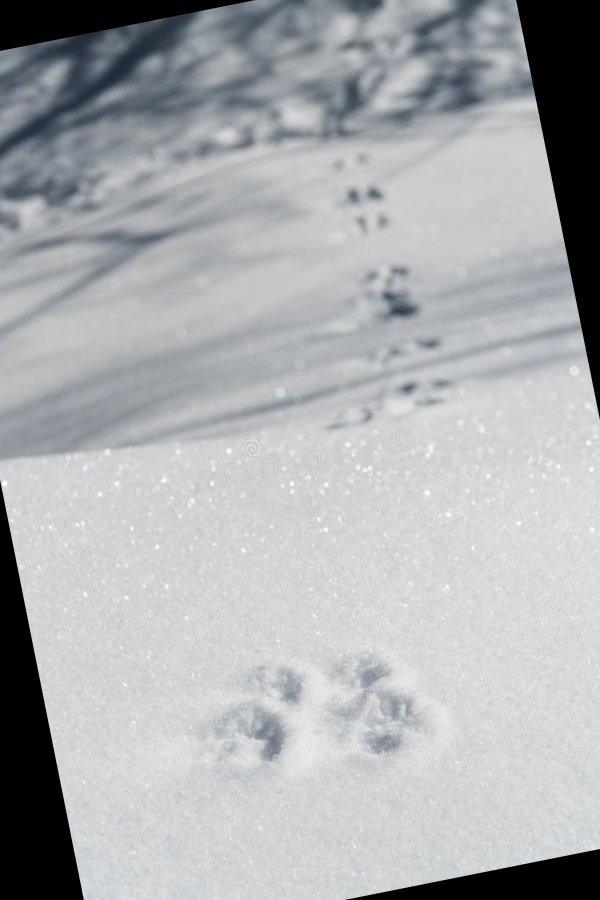rabbit: (162, 611, 462, 830)
